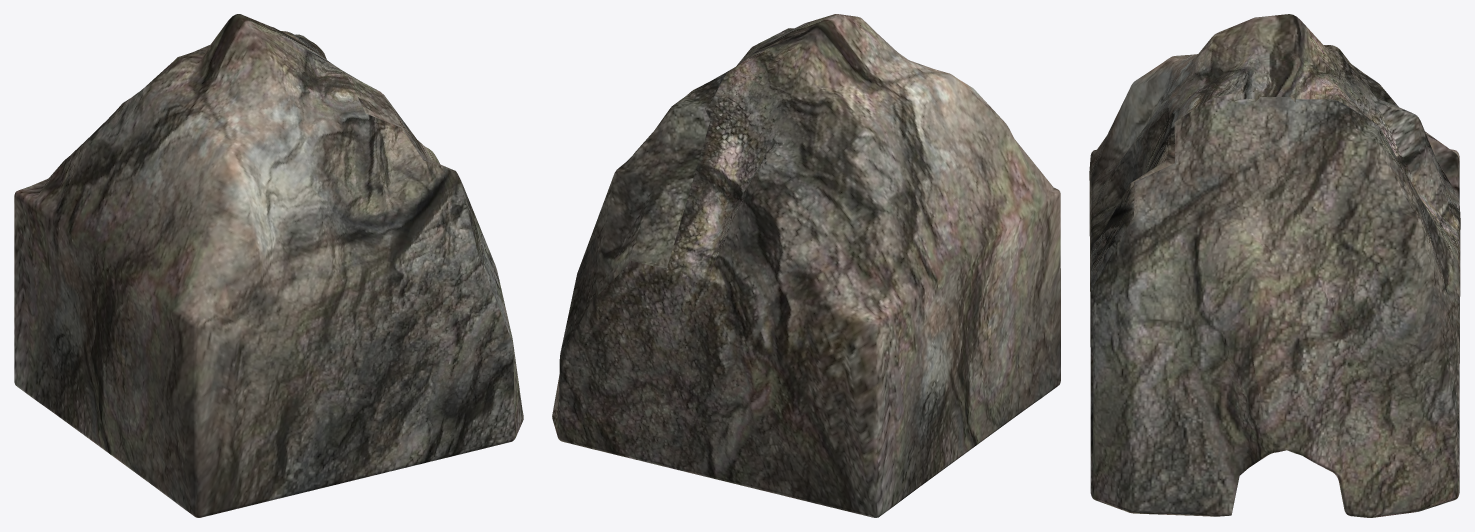
File: Cave.fbx
3 views of the same model, side by side, from view 1: azimuth 30°, elevation 25°; view 2: azimuth 150°, elevation 25°; view 3: azimuth 270°, elevation 25° (orthographic).
Visible parts, largest first — view 1: Cube; view 2: Cube; view 3: Cube.
Boxes of the visible parts, x1=… form: Cube: x1=14, y1=14, x2=523, y2=517; Cube: x1=552, y1=14, x2=1060, y2=517; Cube: x1=1089, y1=14, x2=1460, y2=517.
Size of the model in its own units: 2238 by 2364 by 1980.
1 material, 1 textured.
